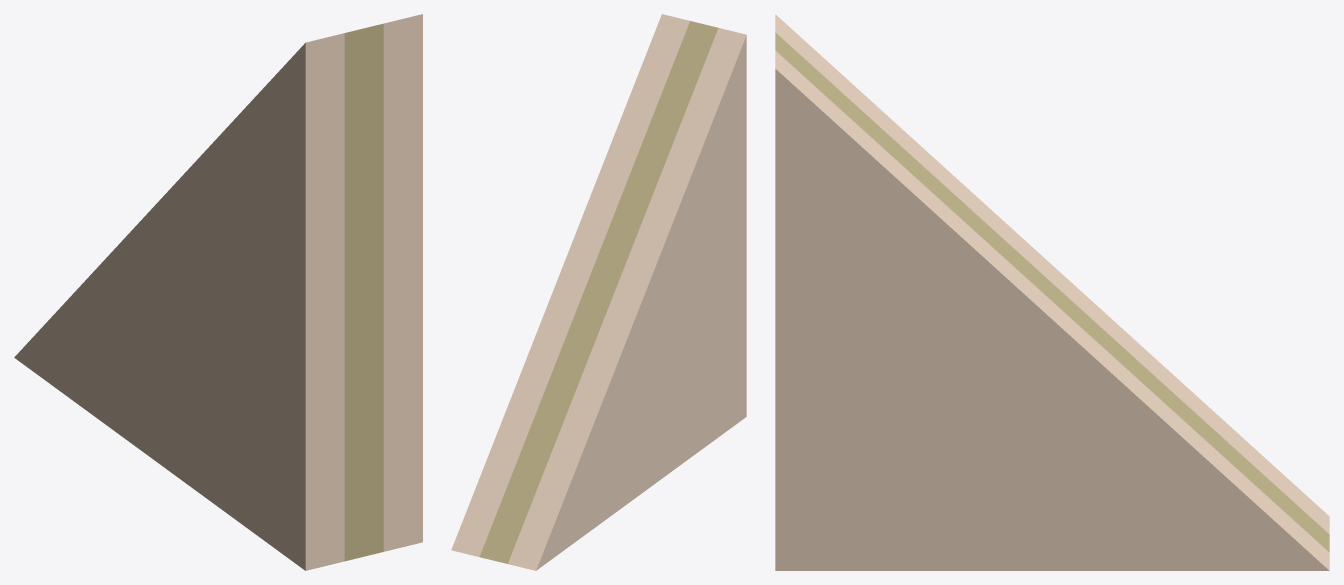
The model's file is Toast.fbx.
3 renders of one model, left to right at view 1: azimuth 30°, elevation 25°; view 2: azimuth 150°, elevation 25°; view 3: azimuth 270°, elevation 25°, orthographic. The views are drawn at different scales.
Visible parts, largest first — view 1: toast.003; view 2: toast.003; view 3: toast.003.
Boxes of the visible parts, box(x1,y1,x2,y2) form: toast.003: box(14, 14, 422, 570); toast.003: box(451, 14, 746, 570); toast.003: box(775, 14, 1329, 570).
Size of the model in its own units: 0.0426 by 0.1832 by 0.1832.
